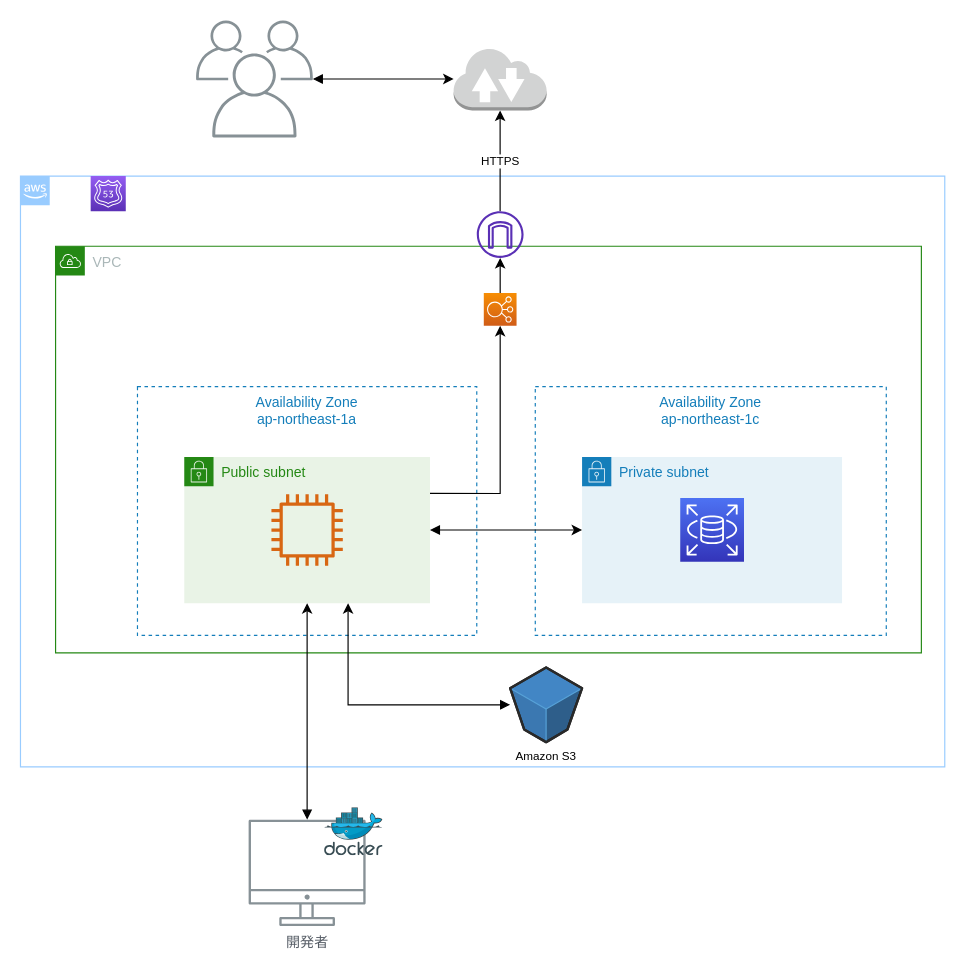
Image size: 965x970. Some labels were removed from this diagram. The shapes that lost their labels are listed below. From the top down, each one's centre as x and y in pixels, then its label:
At point 253,78: "users".
At point 108,193: "Amazon Route53".
At point 306,529: "EC2インスタンス".
At point 711,529: "RDS(MySQL)".
